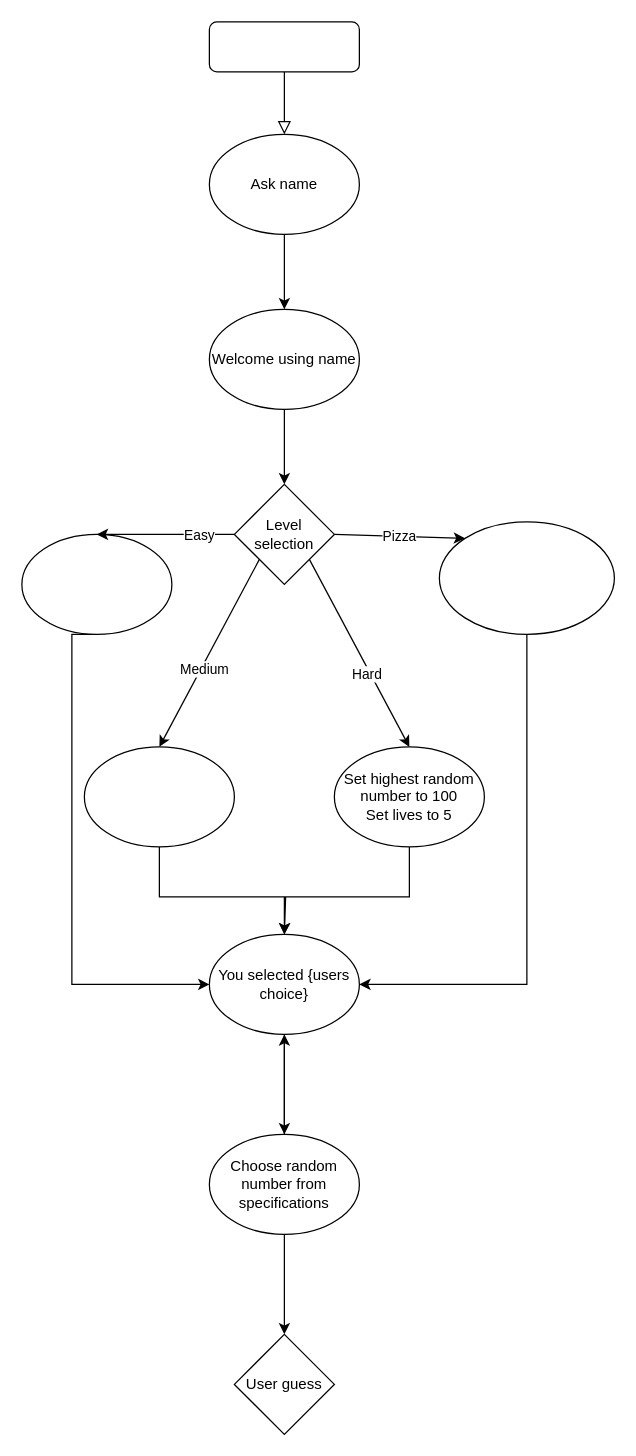
The diagram is 636 pixels wide and 1456 high, and some of its shapes have lost their labels. The centre of each missing label's shape, as x and y in pixels:
Program Start: point 283,46
Set highest number to 10000 Set lives to 1: point 526,577
Set highest random number to 20 Set lives to 10: point 96,583
Set highest random number to 50 Set lives to 5: point 158,796
